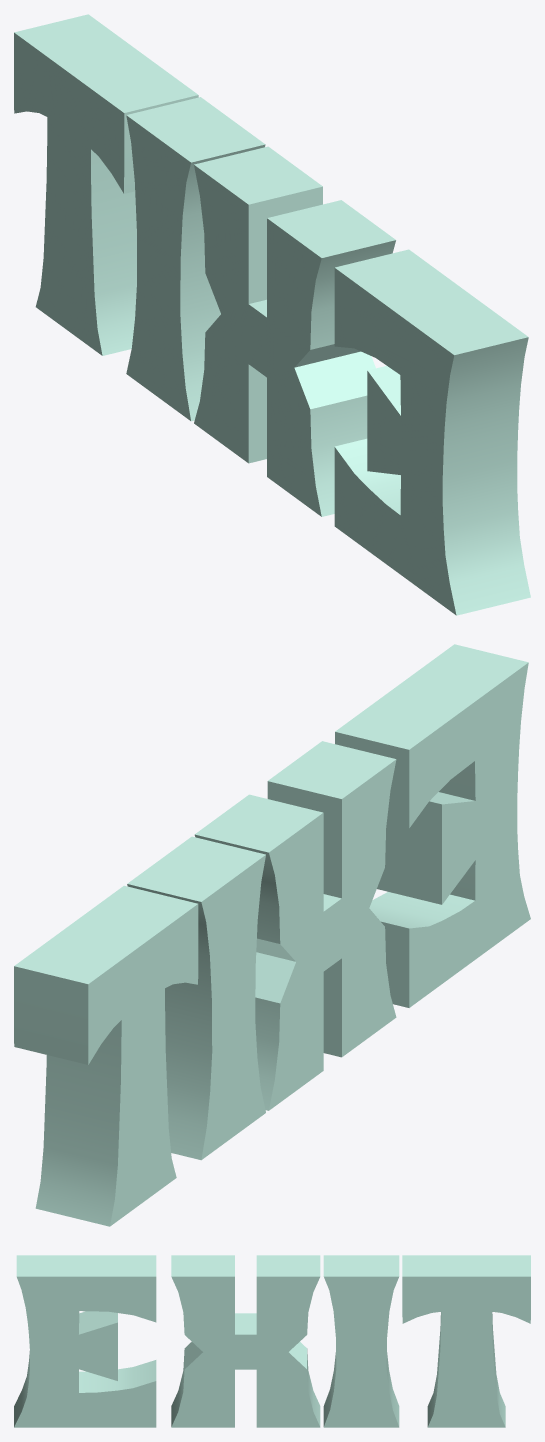
File: Exit(Button).fbx
3 views of the same model, one above another, from view 1: azimuth 30°, elevation 25°; view 2: azimuth 150°, elevation 25°; view 3: azimuth 270°, elevation 25° (orthographic). The views are drawn at different scales.
Parts seen in each view (by area): view 1: Exit; view 2: Exit; view 3: Exit.
Boxes of the visible parts, x1=… form: Exit: x1=14, y1=14, x2=530, y2=615; Exit: x1=14, y1=644, x2=530, y2=1226; Exit: x1=14, y1=1255, x2=530, y2=1427.
Bounding box in the file's own units: 50.35 × 166 × 515.
